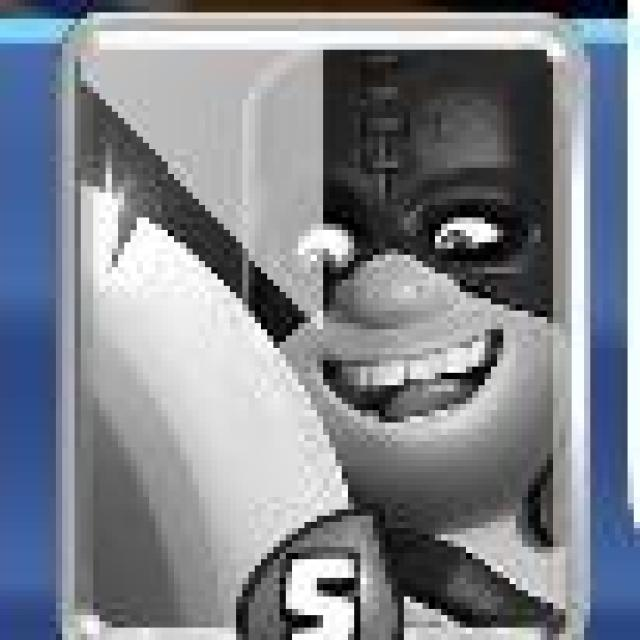Executioner: (61, 16, 584, 640)
